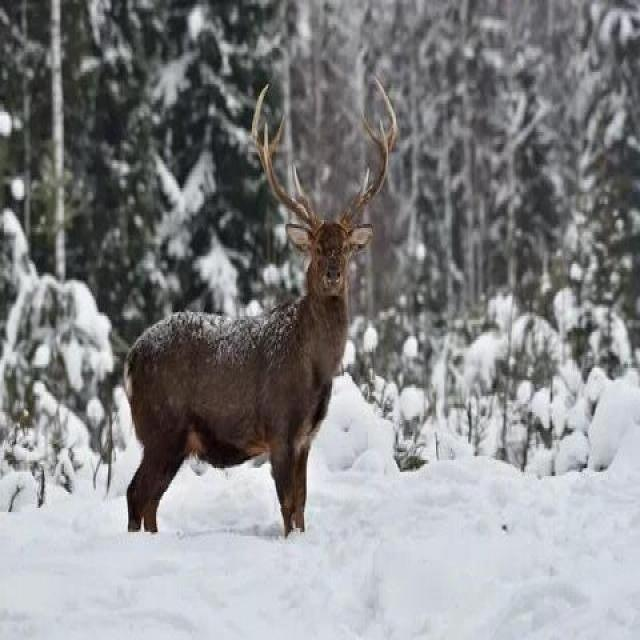deer: (71, 116, 452, 575)
